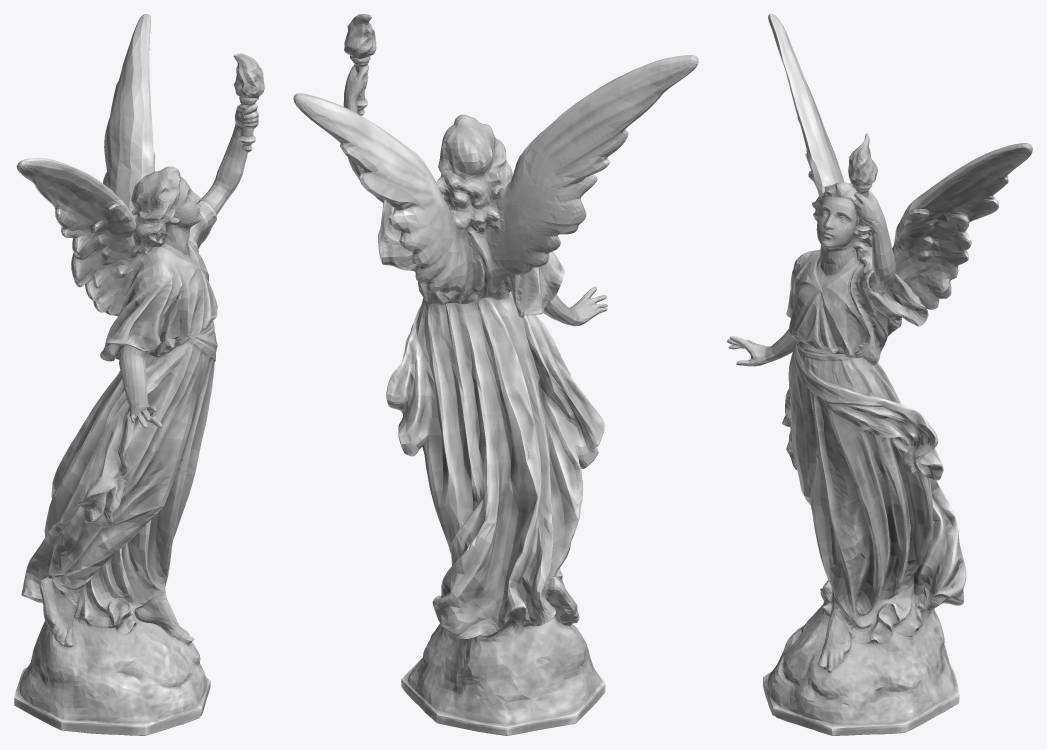
Rendered from Winged_Victory.obj.
3 views of the same model, side by side, from view 1: azimuth 30°, elevation 25°; view 2: azimuth 150°, elevation 25°; view 3: azimuth 270°, elevation 25° (orthographic). The views are drawn at different scales.
Parts seen in each view (by area): view 1: Winged_Victory; view 2: Winged_Victory; view 3: Winged_Victory.
Part boxes in pixels (x1,y1,x2,y2): Winged_Victory: (14, 14, 264, 735); Winged_Victory: (293, 14, 698, 735); Winged_Victory: (727, 14, 1032, 735).
Size of the model in its own units: 159 by 321 by 143.
1 material, 1 textured.
